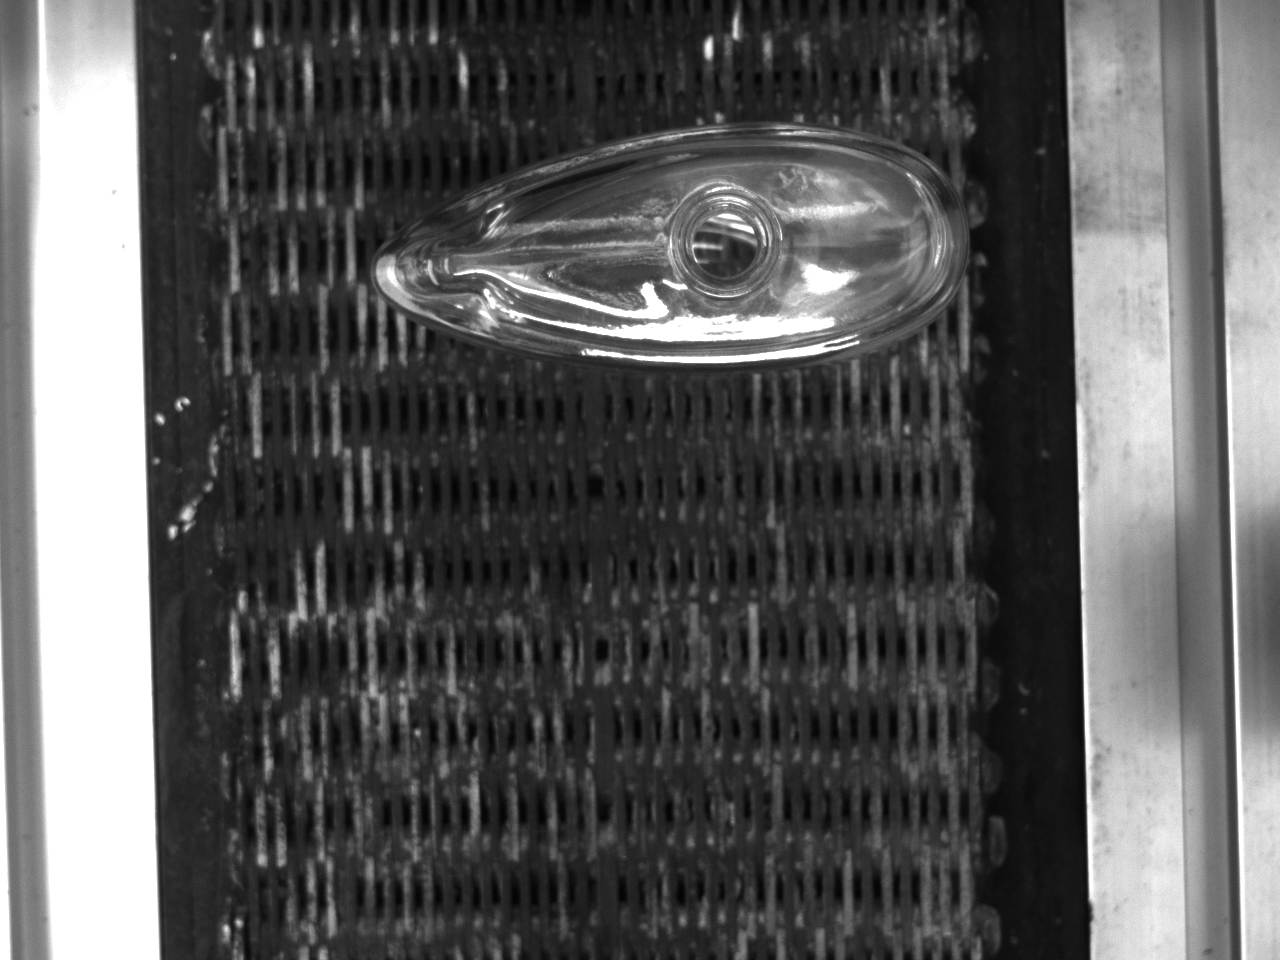bottleneck: (673, 188, 783, 299)
